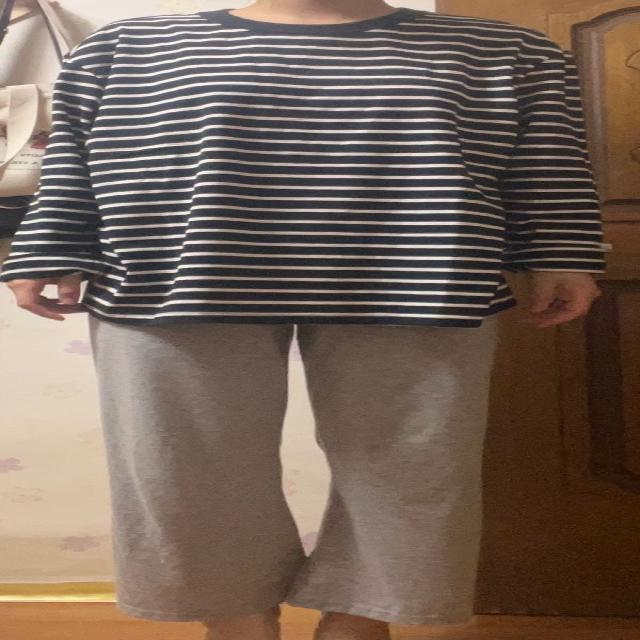longsleeve: (9, 4, 620, 318)
trainingpants: (91, 307, 498, 626)
